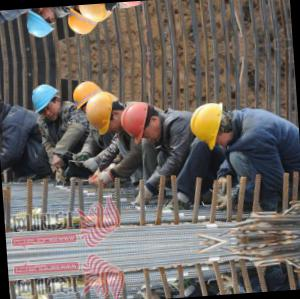helmet: (189, 102, 233, 149), (119, 101, 164, 143), (86, 89, 127, 135), (73, 78, 106, 124), (29, 81, 66, 121), (23, 8, 60, 43), (67, 5, 100, 40), (79, 3, 119, 26)
